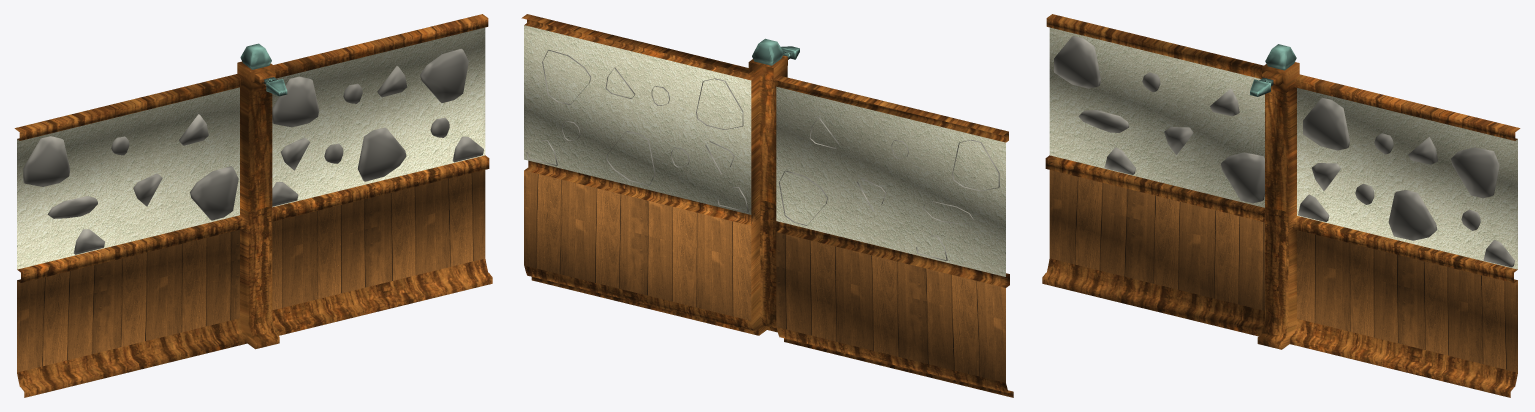
Rendered from muro_bello_.fbx.
The picture shows the model from 3 angles, left to right: view 1: azimuth 30°, elevation 25°; view 2: azimuth 150°, elevation 25°; view 3: azimuth 330°, elevation 25°; orthographic projection. The views are drawn at different scales.
Visible parts, largest first — view 1: Cube.001; view 2: Cube.001; view 3: Cube.001.
Part boxes in pixels (bbox=[...]): Cube.001: bbox=[14, 14, 492, 397]; Cube.001: bbox=[521, 14, 1013, 397]; Cube.001: bbox=[1042, 14, 1520, 397].
Size of the model in its own units: 800 by 474 by 99.75.
